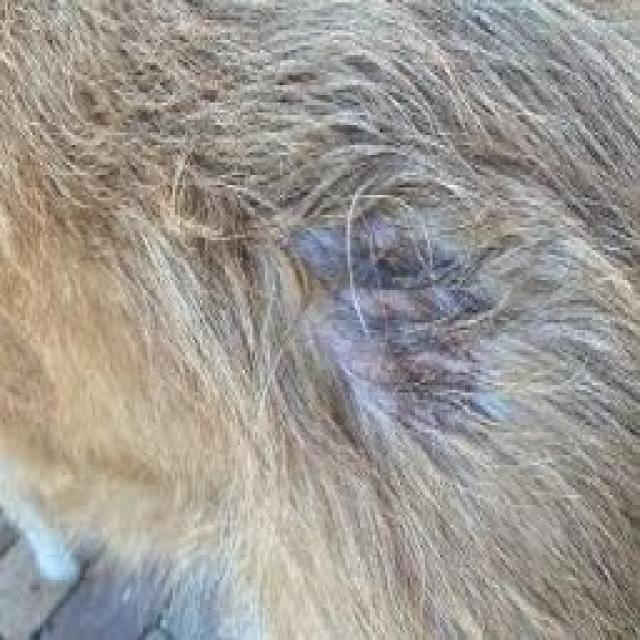hotspot: (302, 223, 473, 416)
